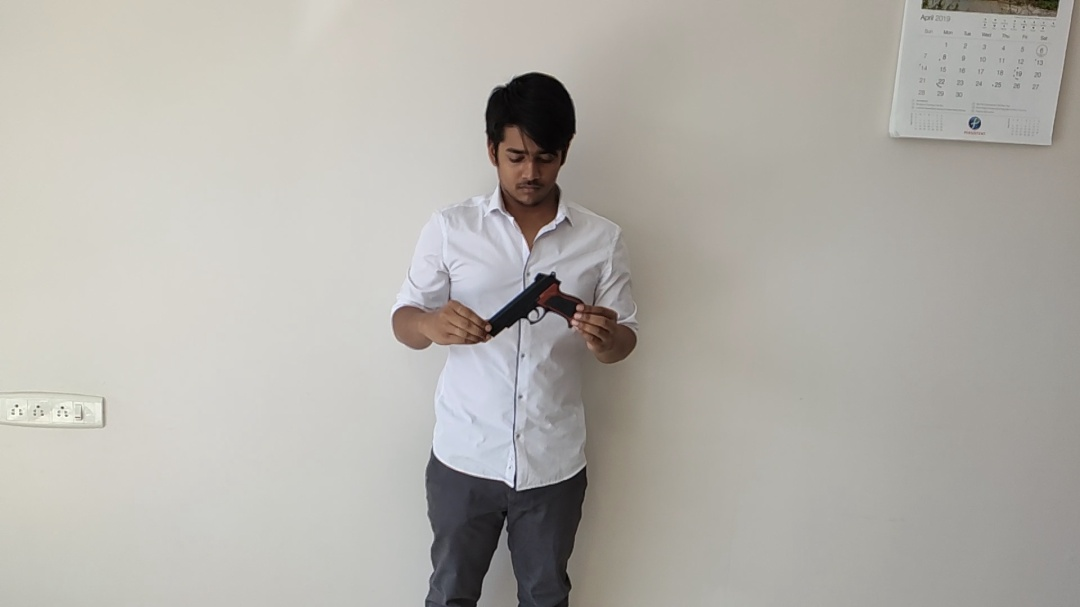gun: (490, 271, 583, 339)
